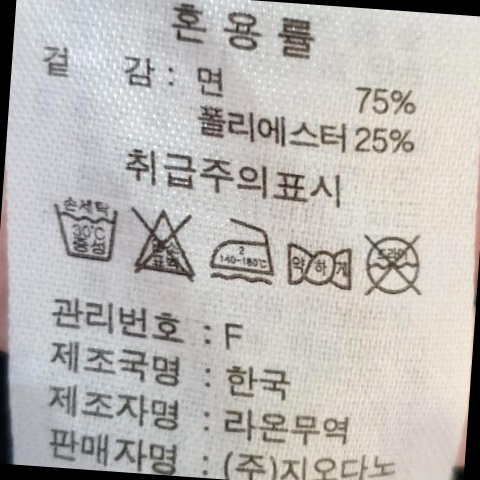DN_dry_clean: (358, 226, 431, 303)
hand_wash: (46, 196, 124, 268)
iron_medium: (209, 215, 279, 283)
non_chlorine_bleach: (127, 201, 208, 286)
wring: (281, 235, 358, 296)
